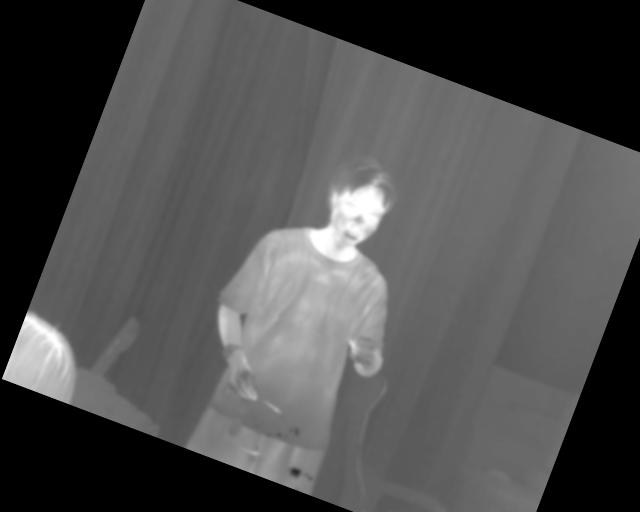face: (311, 149, 405, 260)
